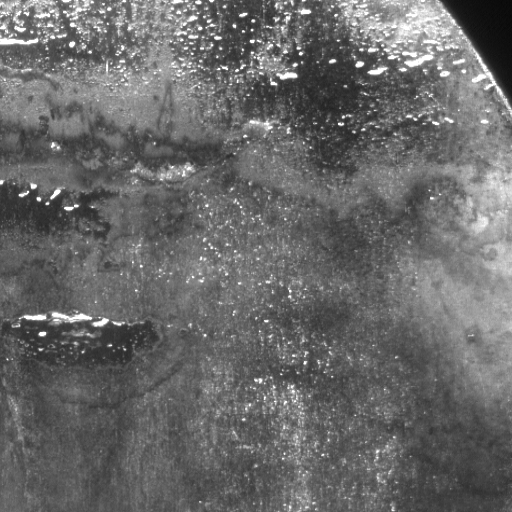qiaopi: (1, 305, 161, 371)
